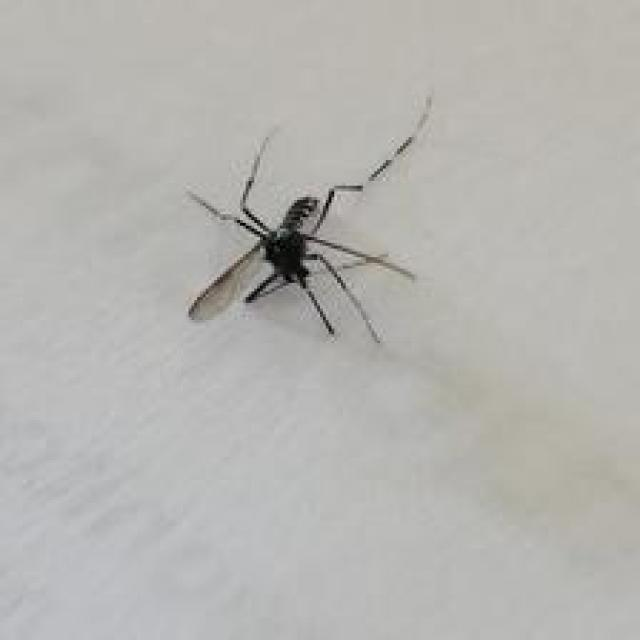Aedes albopictus: (183, 93, 434, 344)
